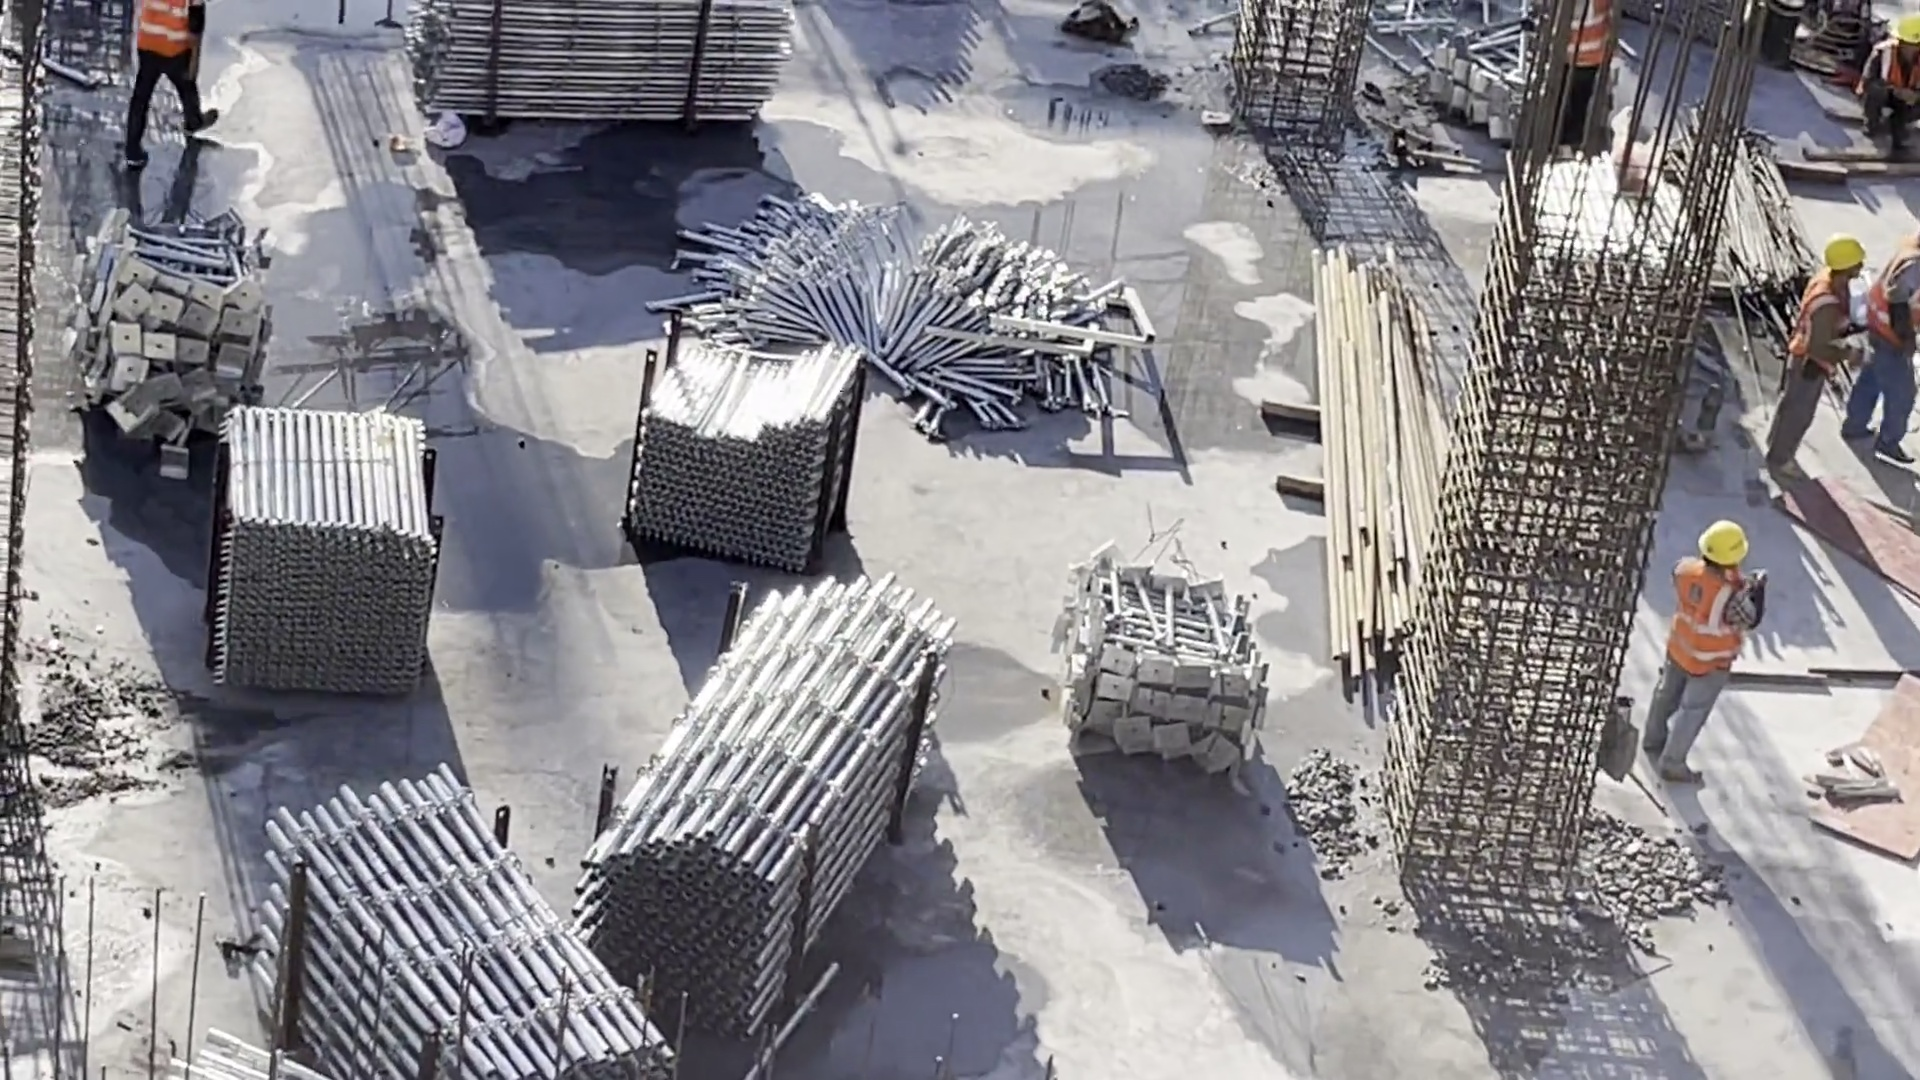helmet: (1692, 517, 1756, 571), (1819, 230, 1856, 286), (1892, 25, 1920, 53)
person: (1656, 506, 1760, 792), (1764, 233, 1862, 496), (1840, 233, 1920, 467), (134, 1, 240, 142), (1847, 22, 1920, 149), (1550, 1, 1604, 157)
scaffold: (607, 575, 940, 1036), (261, 761, 617, 1080), (695, 175, 1109, 432), (215, 392, 433, 697), (387, 1, 792, 149), (645, 330, 877, 568), (1056, 537, 1269, 771), (80, 204, 273, 461), (1421, 17, 1609, 138)
vest: (1677, 563, 1748, 674), (1781, 284, 1841, 361), (125, 1, 204, 57), (1568, 3, 1631, 65), (1876, 248, 1911, 352), (1858, 46, 1920, 94)
